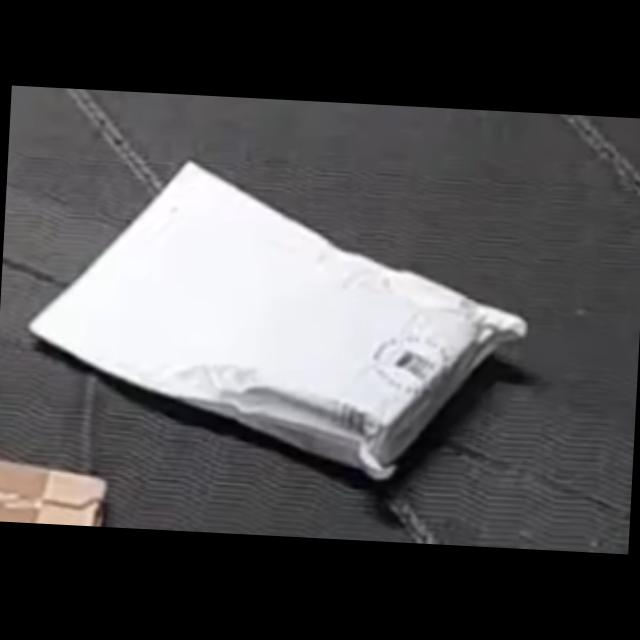mailer: (21, 150, 530, 485)
